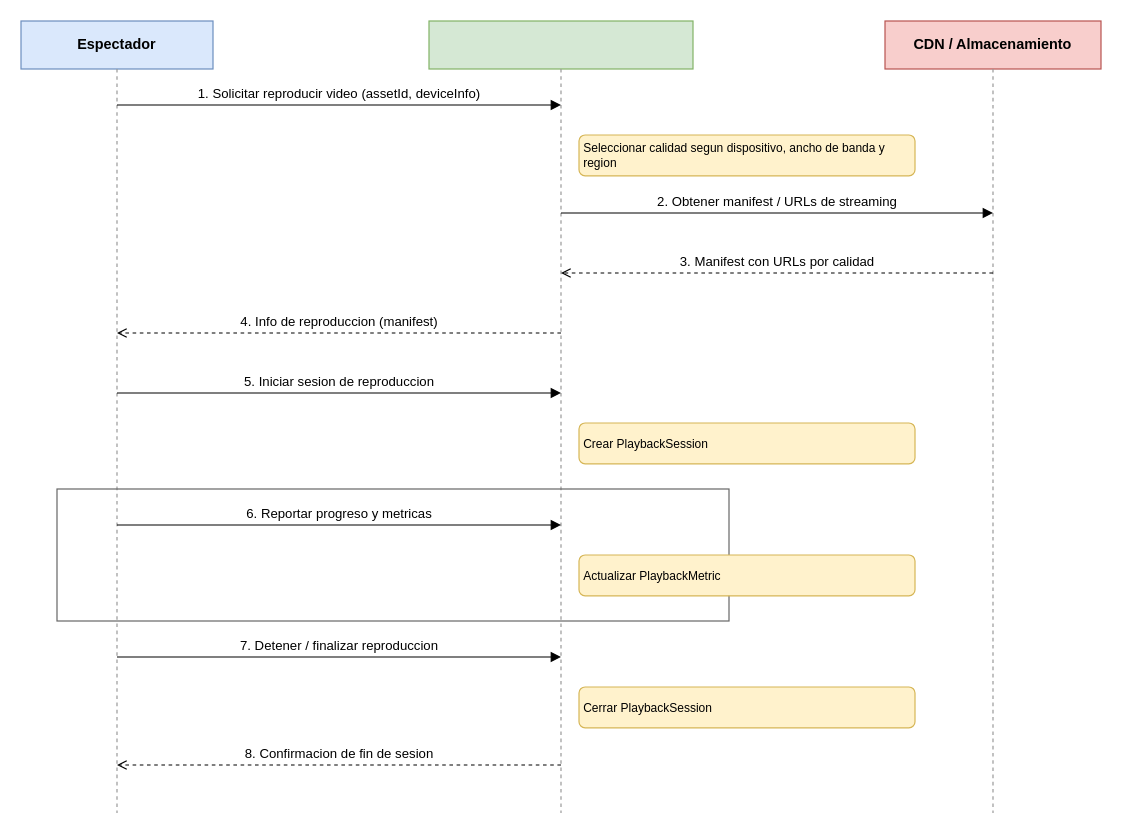
The diagram is 1122 pixels wide and 835 high, and some of its shapes have lost their labels. Each missing label, with the centre of its shape:
API Publicacion (Reproduccion): [560,44]
loop [mientras se reproduce]: [392,554]
